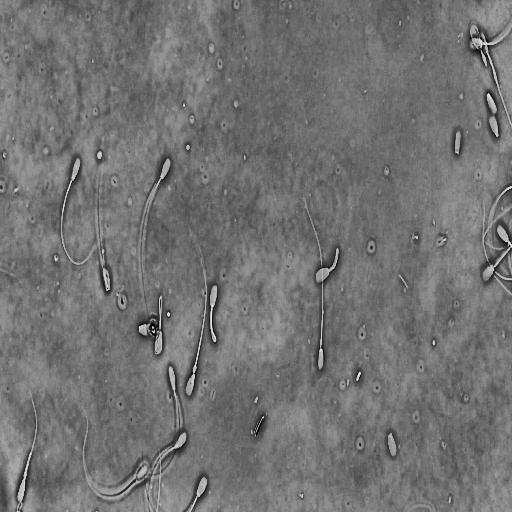coiled-tail: (156, 296, 162, 348), (23, 451, 32, 482), (330, 247, 339, 272), (210, 306, 216, 342), (479, 46, 487, 66)
dirt-particles: (146, 314, 160, 341)
folded-tail: (97, 138, 107, 288)
loose-head: (252, 411, 267, 439), (386, 429, 399, 459), (488, 111, 500, 140), (486, 91, 499, 117), (453, 126, 463, 157)
loose-tail: (481, 198, 512, 284)
normal: (137, 153, 173, 315), (59, 153, 105, 268), (300, 189, 327, 375), (183, 224, 208, 401), (146, 361, 181, 480), (147, 427, 189, 512), (478, 28, 512, 131), (93, 131, 113, 294), (467, 18, 512, 51), (313, 243, 341, 288), (16, 447, 33, 506), (207, 280, 220, 346), (469, 23, 488, 68), (152, 292, 164, 358)
proximal-droplet: (192, 365, 197, 374)
